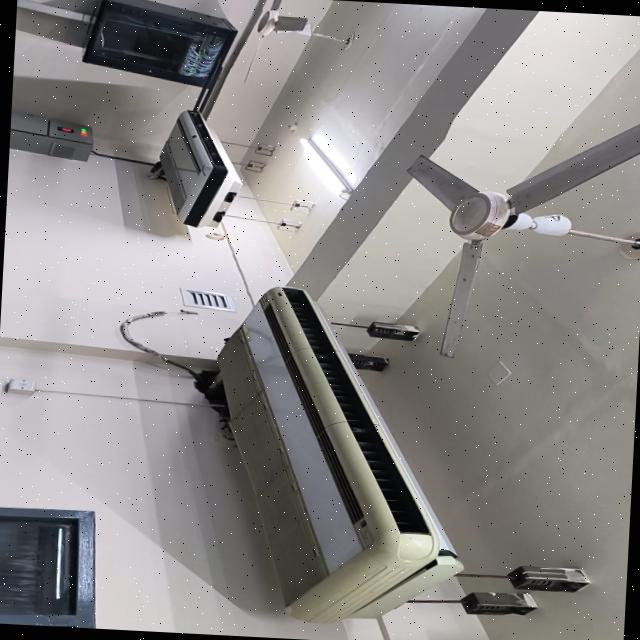Ac: (218, 286, 463, 623), (151, 110, 241, 228)
Fire Extinguisher: (9, 113, 92, 161)
Light: (299, 138, 353, 200)
